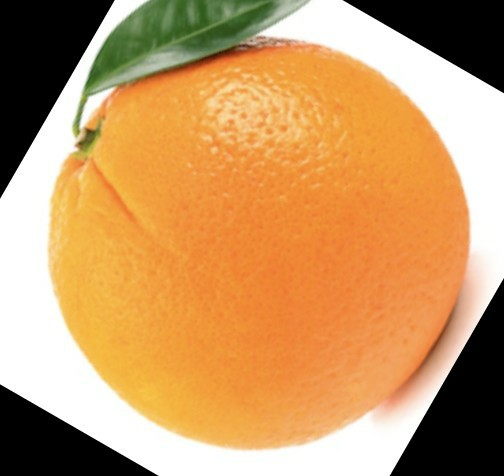fresh_orange: (46, 39, 475, 448)
